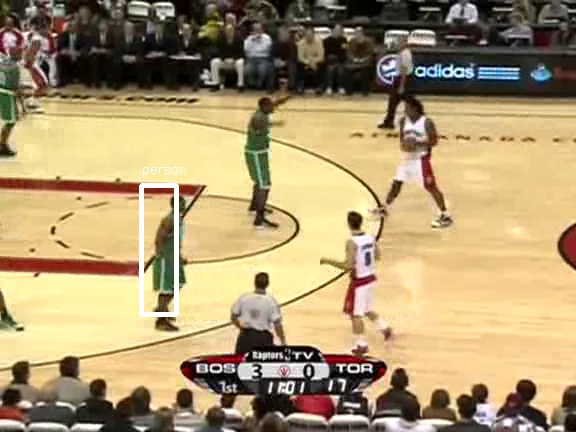person: (153, 214, 187, 295), (152, 214, 186, 295), (154, 214, 188, 295), (153, 213, 187, 294), (153, 215, 187, 296)
target_negative: (254, 68, 429, 416), (151, 301, 525, 359), (184, 55, 469, 125), (21, 13, 511, 35), (553, 32, 573, 367), (196, 189, 225, 385)
